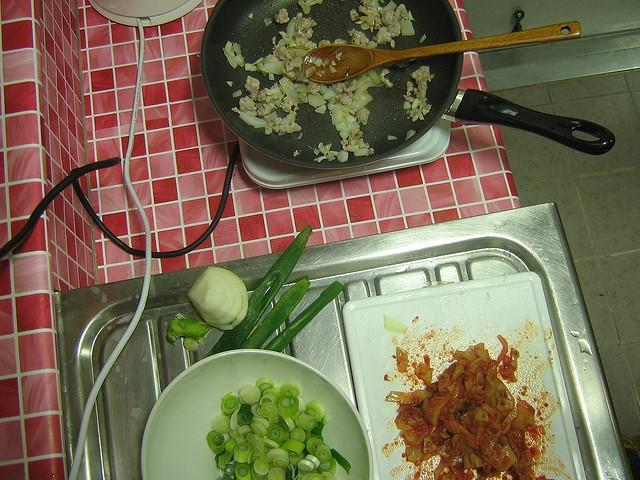green onion: (203, 224, 314, 358), (186, 266, 248, 330), (276, 396, 298, 418), (305, 400, 326, 421), (234, 442, 254, 464), (294, 414, 318, 432), (240, 384, 261, 404), (222, 391, 240, 414), (211, 415, 232, 434), (256, 441, 273, 463), (318, 455, 337, 474), (256, 376, 274, 395), (250, 420, 268, 438), (235, 462, 252, 480), (316, 444, 332, 463), (260, 402, 278, 418), (252, 416, 270, 429), (230, 407, 240, 430), (290, 428, 306, 442), (225, 438, 237, 456), (302, 429, 311, 451), (312, 421, 324, 436), (273, 456, 289, 467), (222, 463, 235, 476), (266, 412, 280, 424), (297, 397, 306, 413), (287, 462, 295, 480), (213, 434, 224, 446), (235, 436, 246, 444), (286, 468, 292, 480), (286, 431, 291, 440), (316, 468, 322, 474)
onion: (203, 225, 313, 359), (263, 281, 346, 352), (239, 274, 311, 348), (186, 266, 248, 330), (279, 76, 304, 104), (331, 448, 352, 474), (276, 395, 299, 418), (304, 400, 326, 422), (233, 441, 254, 464), (238, 112, 268, 128), (280, 438, 304, 457), (223, 48, 245, 68), (295, 413, 318, 431), (240, 384, 260, 404), (211, 415, 231, 434), (268, 423, 286, 443), (238, 404, 254, 426), (260, 61, 283, 76), (255, 377, 274, 395), (222, 395, 240, 414), (234, 462, 252, 480), (248, 434, 262, 456), (318, 456, 336, 473), (278, 416, 296, 433), (353, 94, 372, 110), (206, 431, 225, 447), (250, 421, 267, 438), (260, 436, 280, 450), (400, 19, 416, 36), (254, 459, 269, 476), (266, 448, 289, 459), (252, 415, 270, 429), (288, 46, 310, 57), (290, 427, 306, 442), (368, 68, 383, 84), (304, 454, 320, 469), (308, 94, 326, 107), (268, 467, 286, 480), (214, 449, 226, 467), (323, 86, 338, 100), (286, 17, 296, 38), (218, 454, 231, 470), (259, 394, 276, 406), (273, 456, 290, 468), (312, 422, 326, 436), (355, 74, 367, 89), (236, 425, 252, 436), (266, 412, 280, 424), (225, 41, 236, 56), (382, 1, 397, 12), (332, 110, 342, 125), (222, 408, 234, 420), (337, 150, 349, 162), (297, 468, 309, 480), (282, 36, 296, 46), (354, 148, 369, 157), (405, 129, 416, 141), (339, 130, 352, 140), (258, 454, 272, 463), (297, 24, 306, 38), (366, 14, 376, 26), (272, 45, 280, 60), (348, 122, 360, 132), (312, 432, 324, 442), (305, 66, 315, 78), (345, 116, 356, 126), (331, 104, 343, 113), (240, 106, 258, 112), (344, 77, 356, 86), (334, 122, 346, 131), (412, 98, 421, 109), (406, 80, 414, 92), (312, 58, 322, 67), (356, 138, 364, 149), (351, 10, 358, 22), (286, 466, 292, 480), (302, 6, 312, 14), (304, 0, 314, 7), (266, 96, 274, 104), (400, 6, 408, 14), (335, 52, 342, 61), (340, 98, 347, 106), (388, 135, 398, 140), (226, 81, 234, 87), (419, 112, 425, 120), (424, 68, 430, 74), (264, 446, 268, 454), (322, 61, 326, 68), (422, 81, 427, 86), (324, 82, 336, 84), (365, 38, 369, 44), (293, 152, 297, 157), (270, 85, 274, 89)
